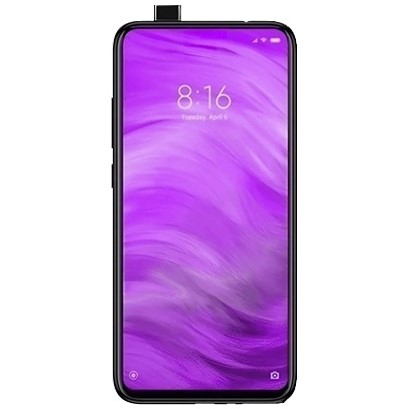Handphone: (108, 16, 303, 407)
